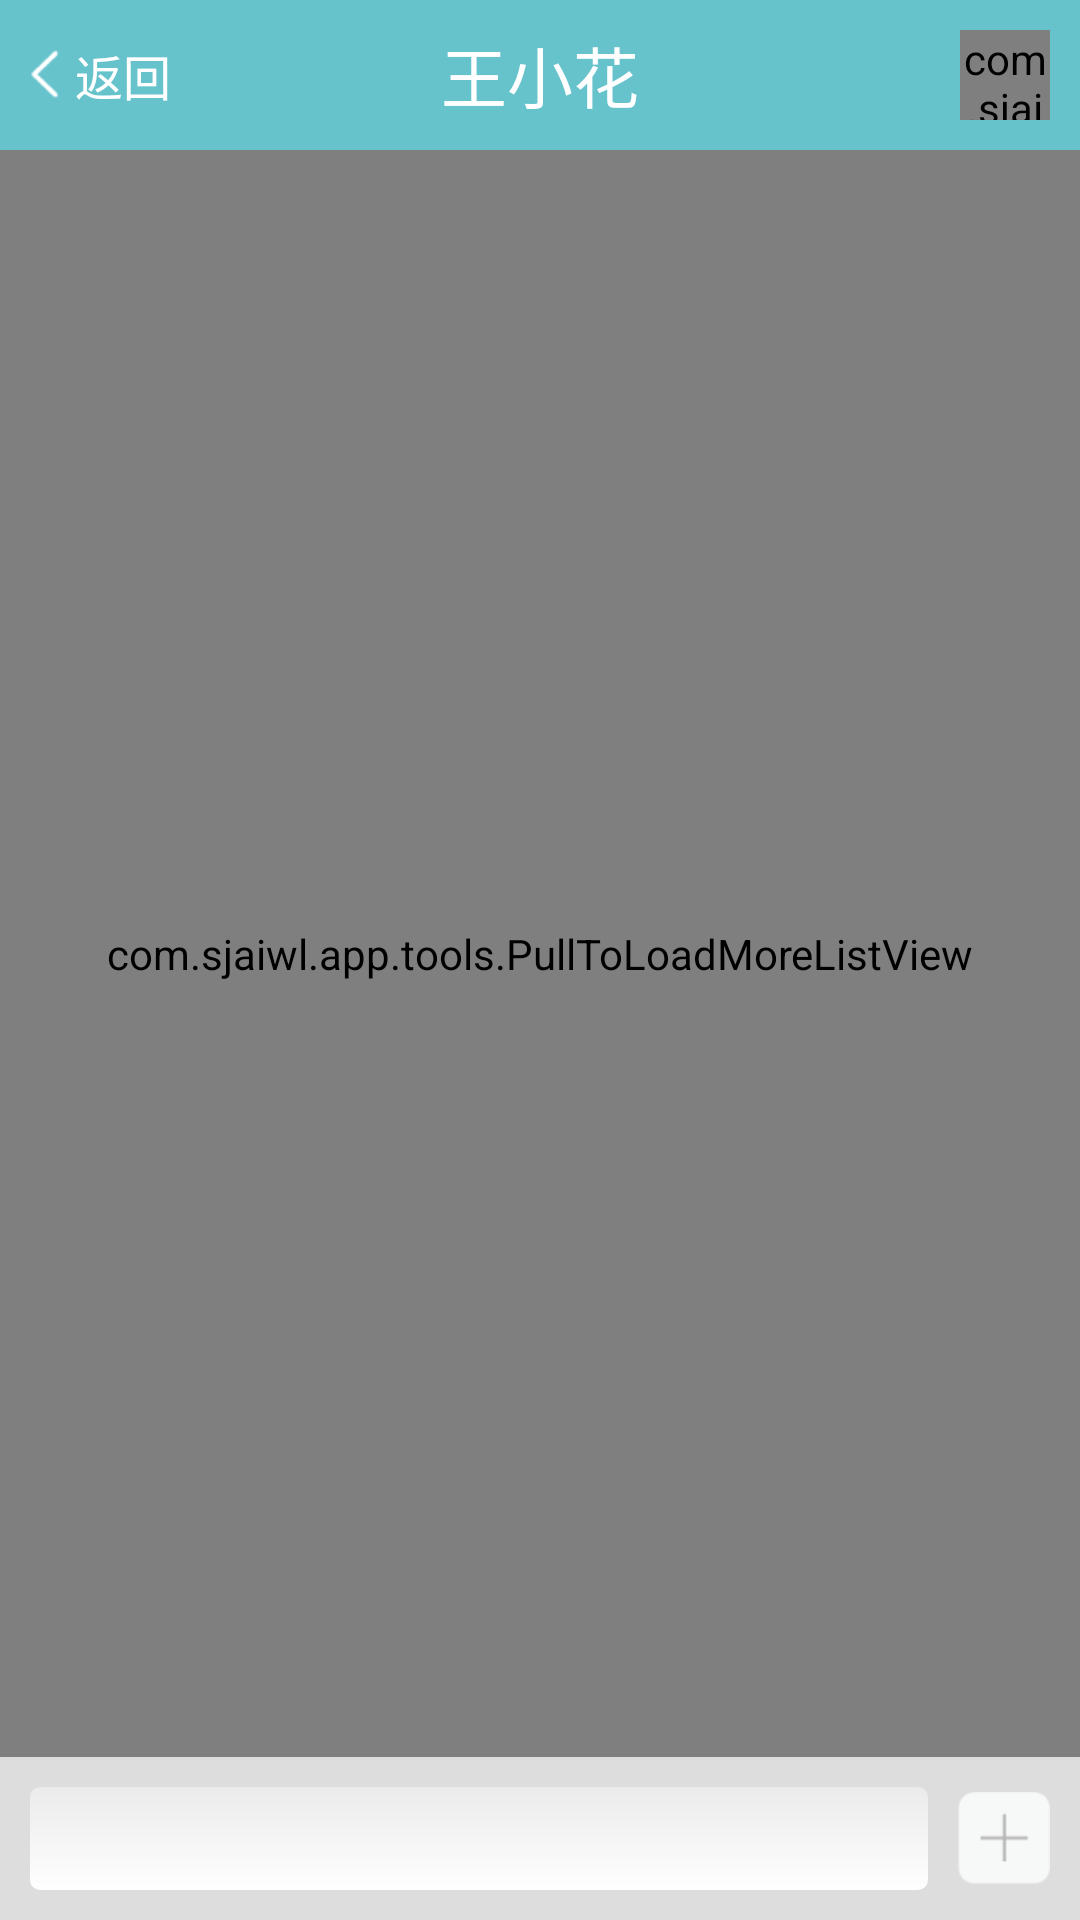

Where icons sit on this 1080px×1920px app screen, as (x1, y1, x2, y2):
chat bottom add: (960, 1794, 1048, 1882)
